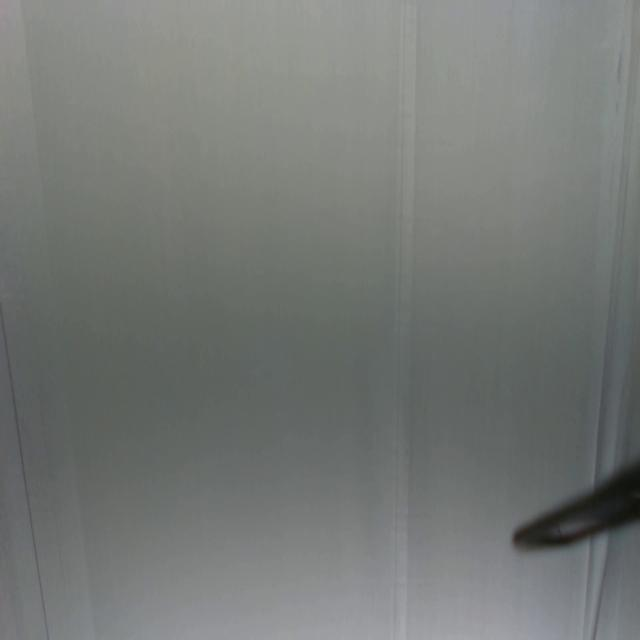crease: (0, 300, 48, 640), (389, 0, 408, 636)
